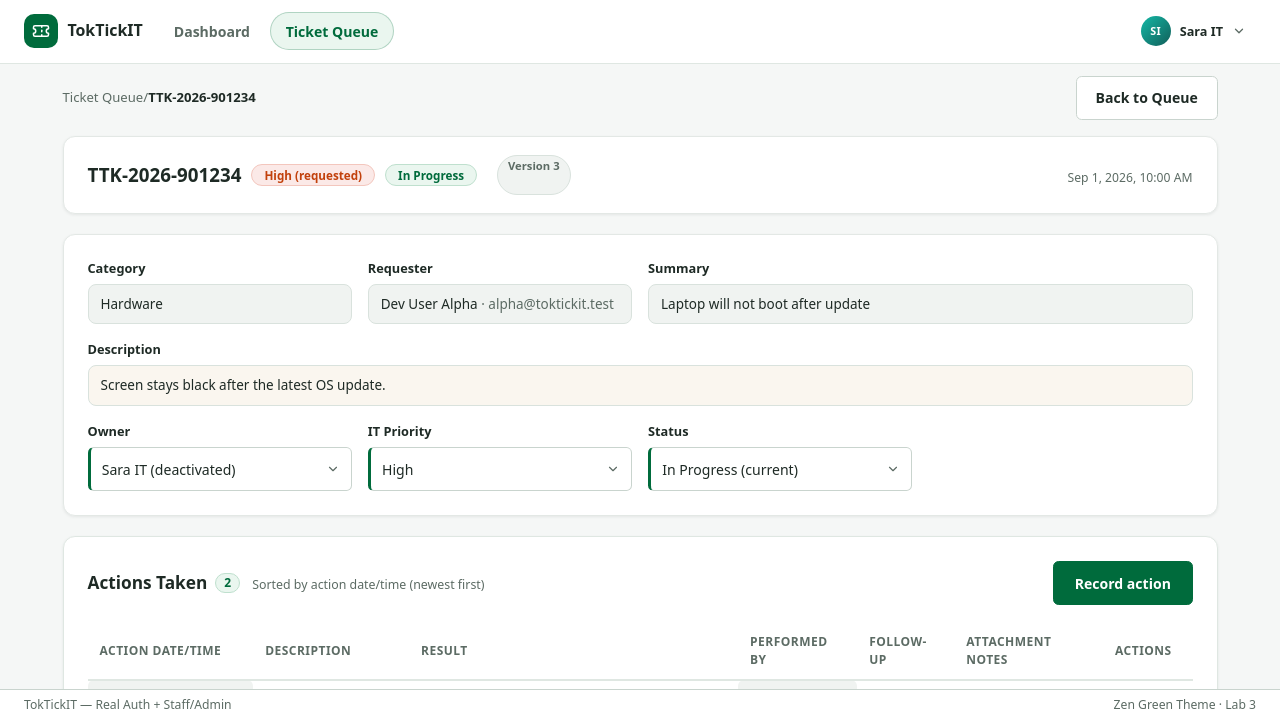
Scenario: Actions Taken UI (L4-4) › UI-03d: maintains BR-05 sort order (actionAt desc, then id desc) when backdated actions are created
Click the button "Record action" at x=1123, y=583, box left=1053, top=561, right=1192, bottom=605
(page scrolled)
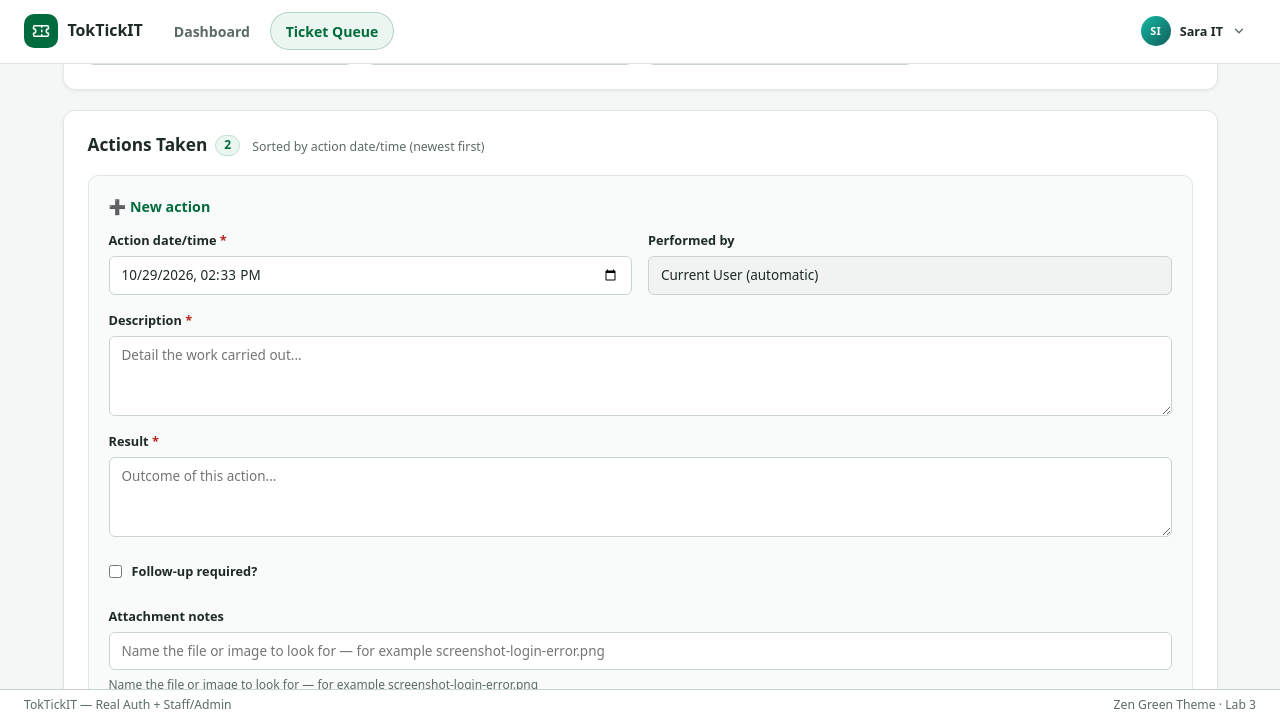
Type "Backdated intermediate action" into the text box labelled "Description *" at x=640, y=376, box left=108, top=336, right=1172, bottom=416
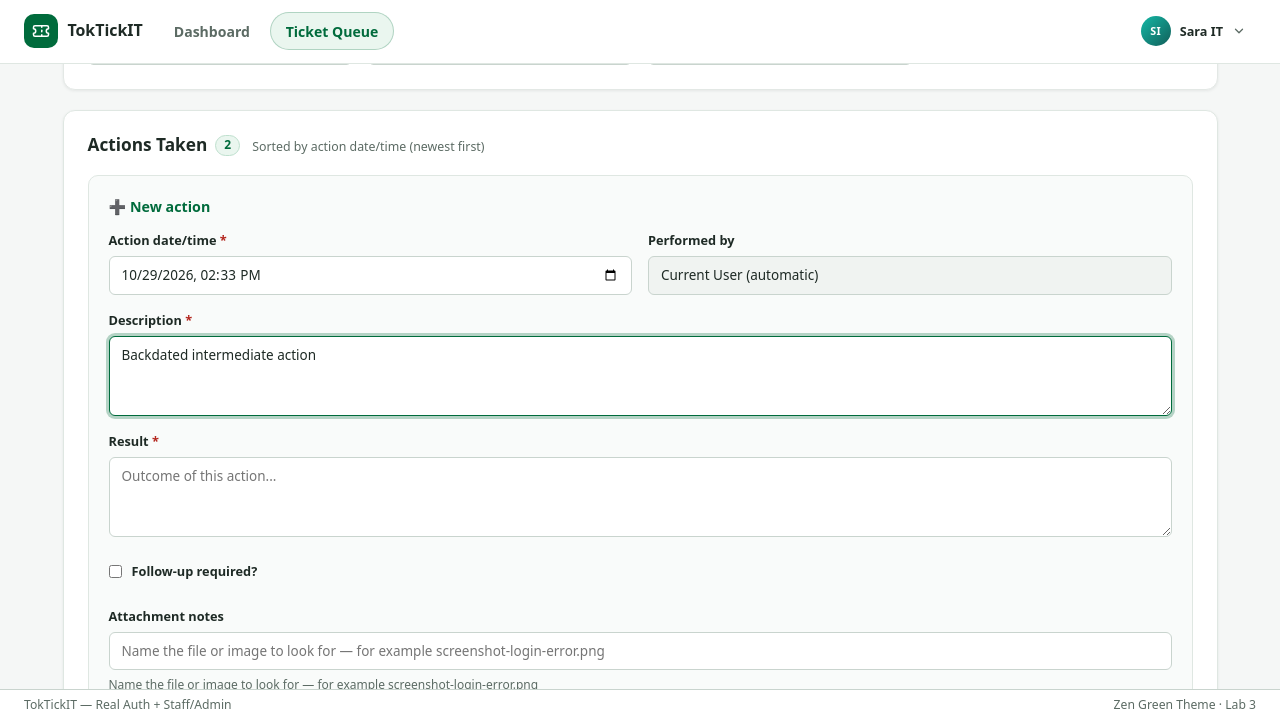
Type "Successful intermediate step" into the text box labelled "Result *" at x=640, y=497, box left=108, top=457, right=1172, bottom=537
(page scrolled)
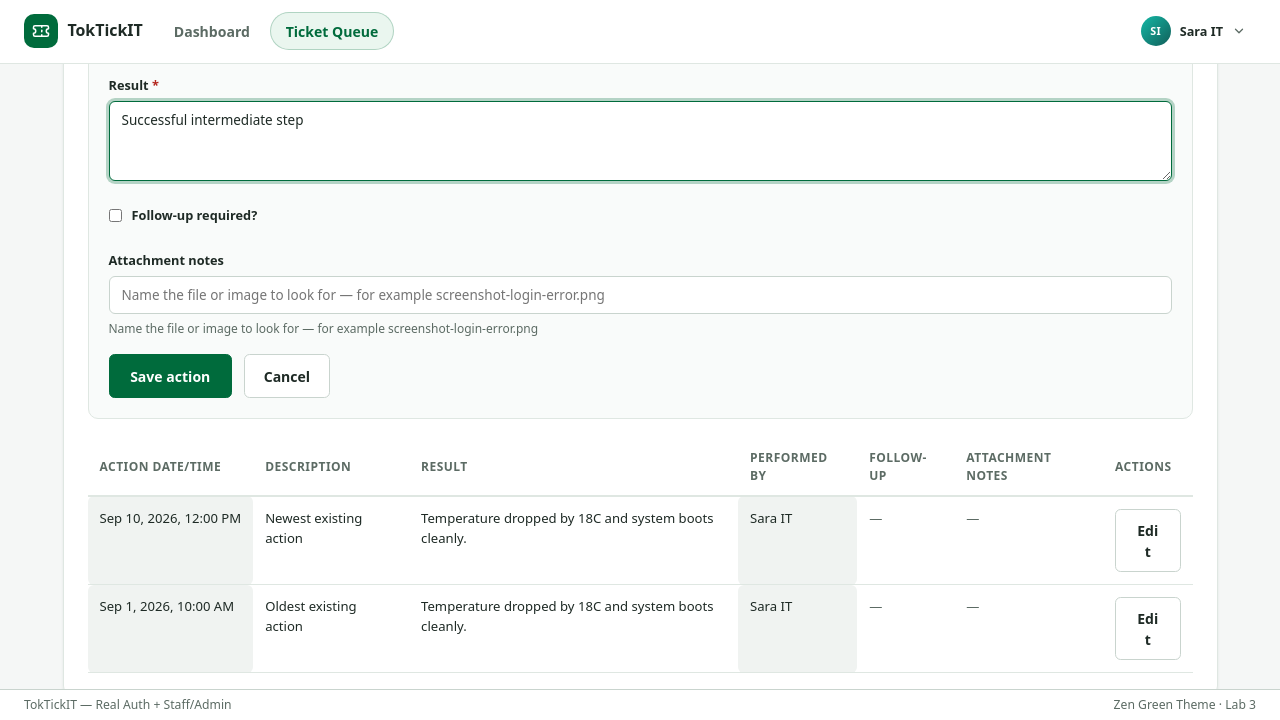
Click the button "Save action" at x=170, y=376, box left=108, top=354, right=232, bottom=398
(page scrolled)
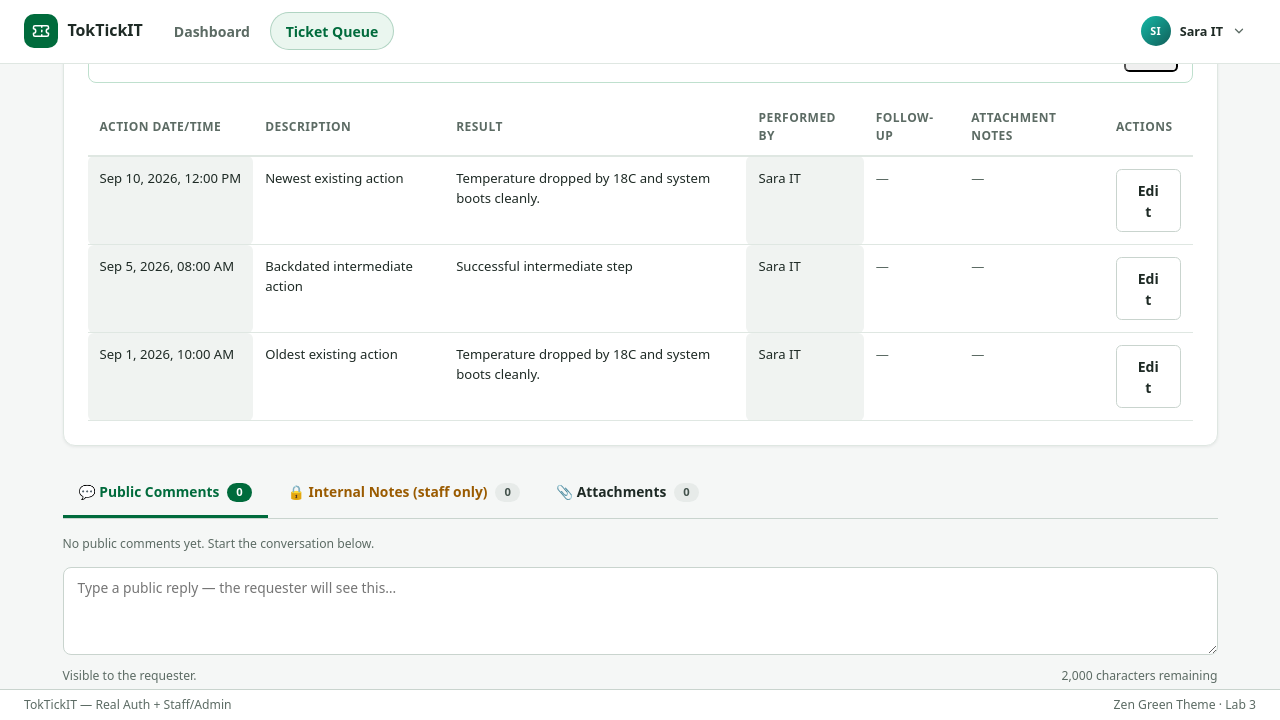
Check: the row that starts with "Sep 10, 2026, 12:00 PM" shows "Newest existing action", box left=265, top=169, right=404, bottom=187
Check: the row that starts with "Sep 1, 2026, 10:00 AM" shows "Oldest existing action", box left=265, top=345, right=398, bottom=363
Check: the row that starts with "Sep 5, 2026, 08:00 AM" shows "Backdated intermediate action", box left=265, top=257, right=413, bottom=295
